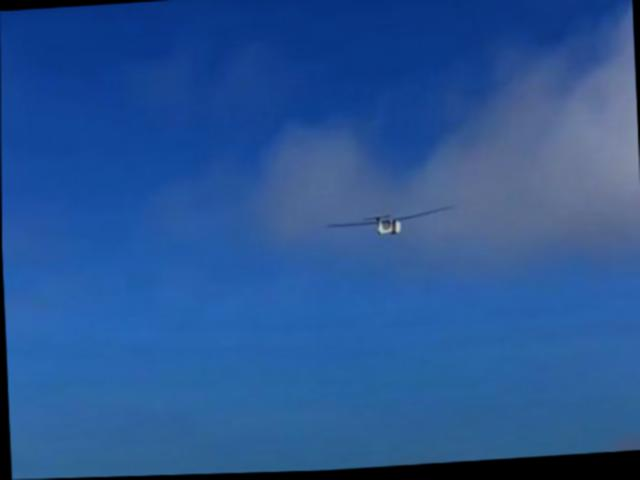iha: (322, 204, 454, 244)
